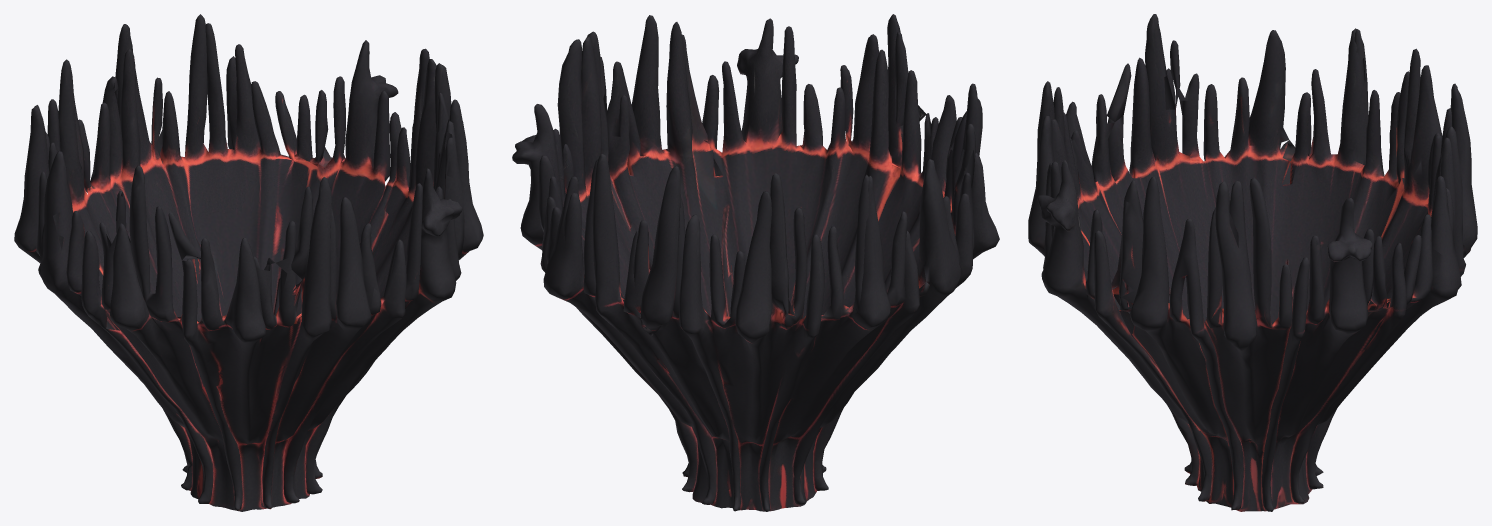
File: quagmire-caldera.glb
The picture shows the model from 3 angles, left to right: view 1: azimuth 30°, elevation 25°; view 2: azimuth 150°, elevation 25°; view 3: azimuth 270°, elevation 25°; orthographic projection. The views are drawn at different scales.
Parts seen in each view (by area): view 1: quagmire-caldera; view 2: quagmire-caldera; view 3: quagmire-caldera.
Boxes of the visible parts, x1,y1,x2,y2 form: quagmire-caldera: (14, 14, 483, 511); quagmire-caldera: (512, 14, 999, 511); quagmire-caldera: (1028, 14, 1477, 511).
Size of the model in its own units: 1 by 0.9691 by 0.9997.
1 material, 1 textured.
